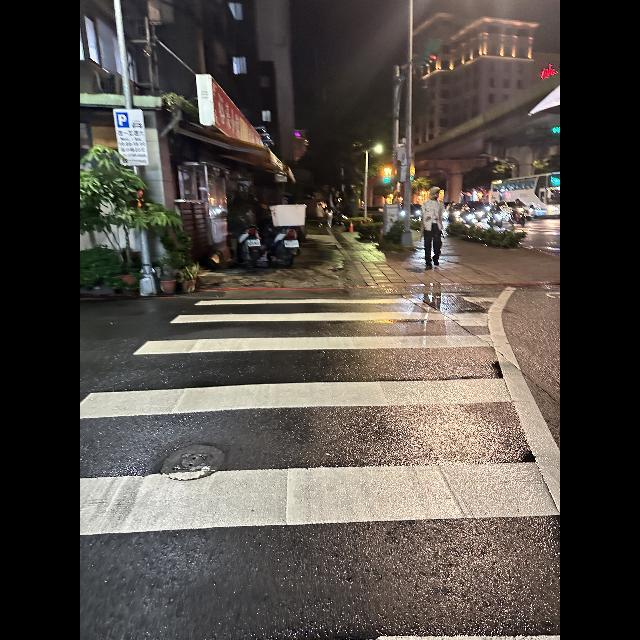sidewalk: (80, 296, 560, 534)
